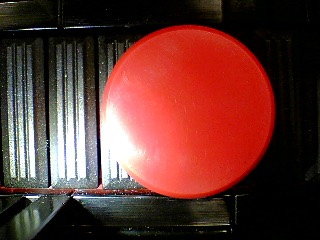BLANK: (101, 23, 275, 199)
